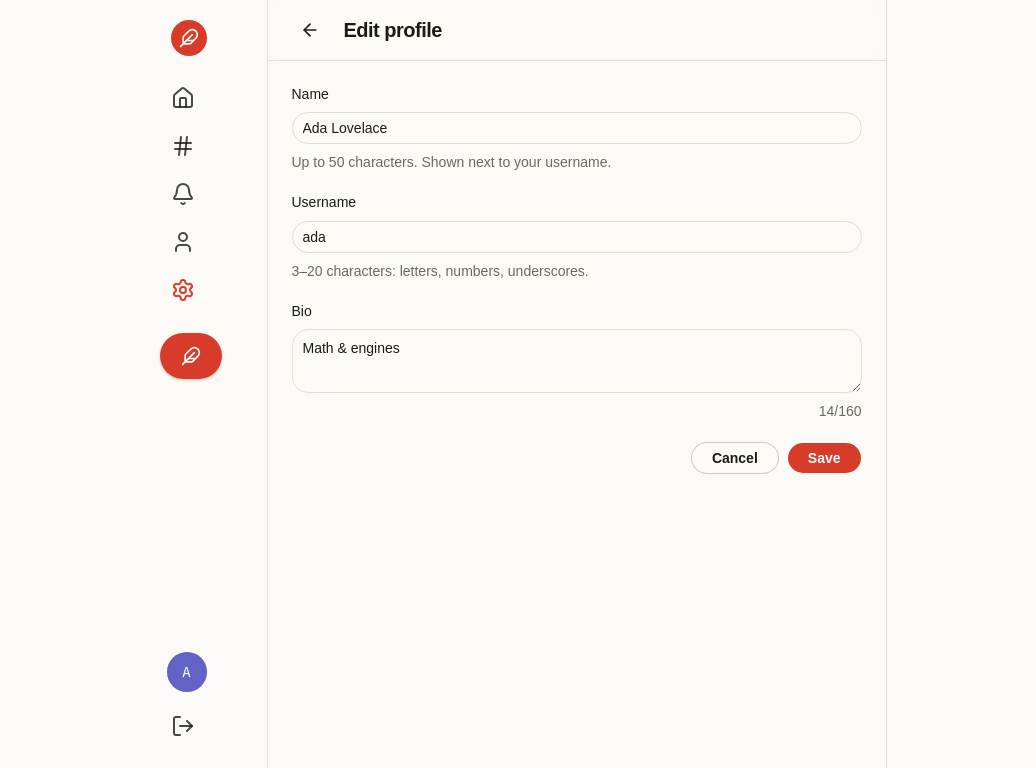
Scenario: EditProfile › name › can't be cleared once set ()
Expected: the field labelled "Username" is shown, [292,220,862,252]
Clear the field labelled "Name" at (576, 128), box [292,112,862,144]
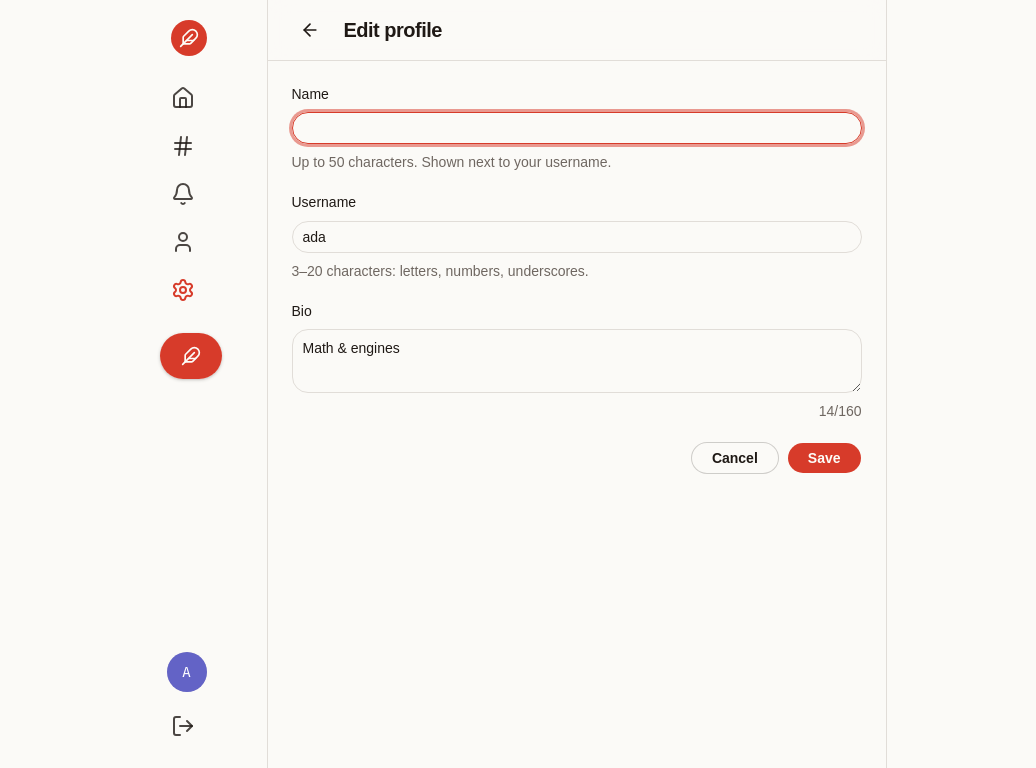
Click the button "Save".
click(824, 458)  # box [787,442,862,474]
(page scrolled)
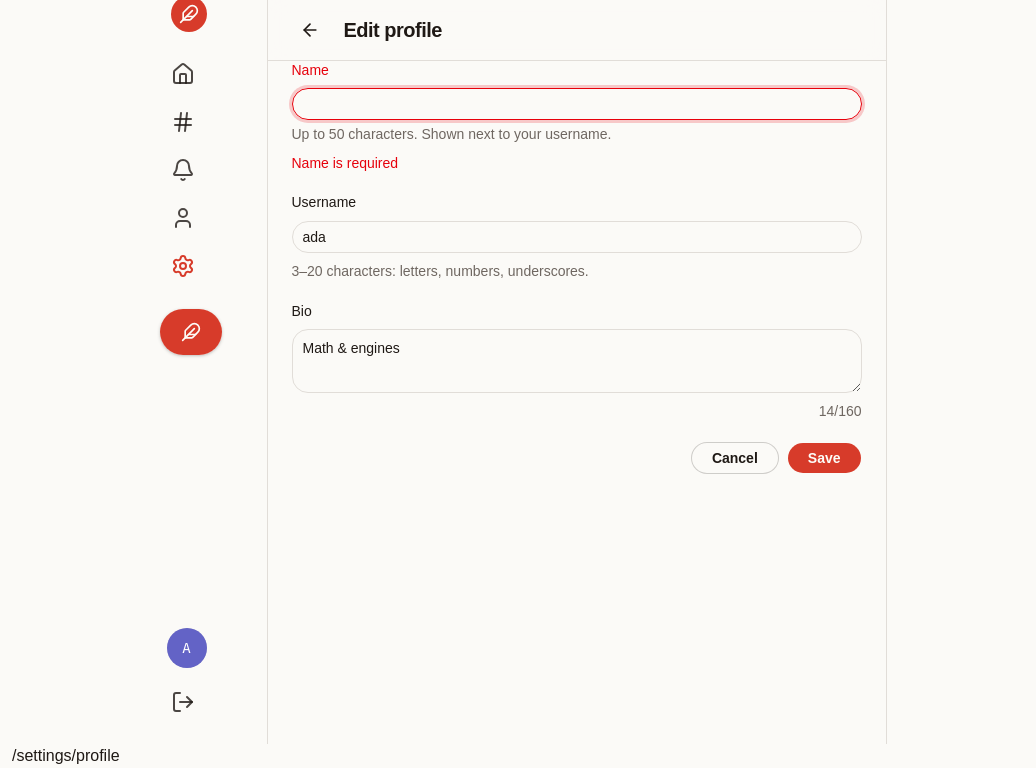
Expected: the text with test id "location" reads "/settings/profile", [12,747,120,764]
Result: the text "Name is required" is shown at [292,155,398,171]
